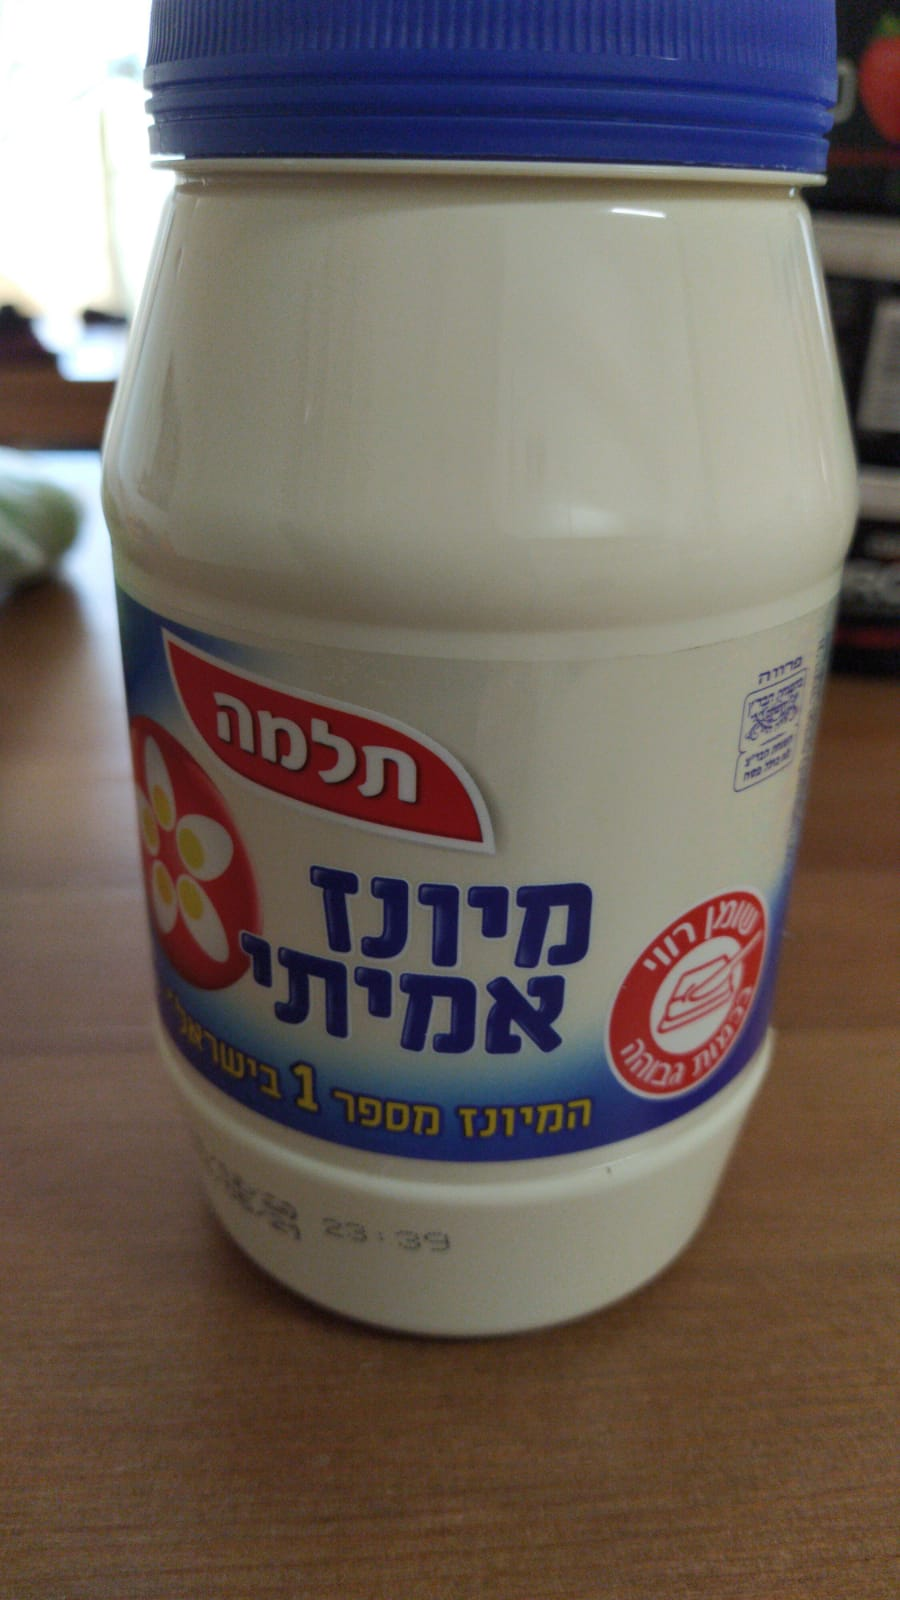fat: (607, 888, 764, 1101)
